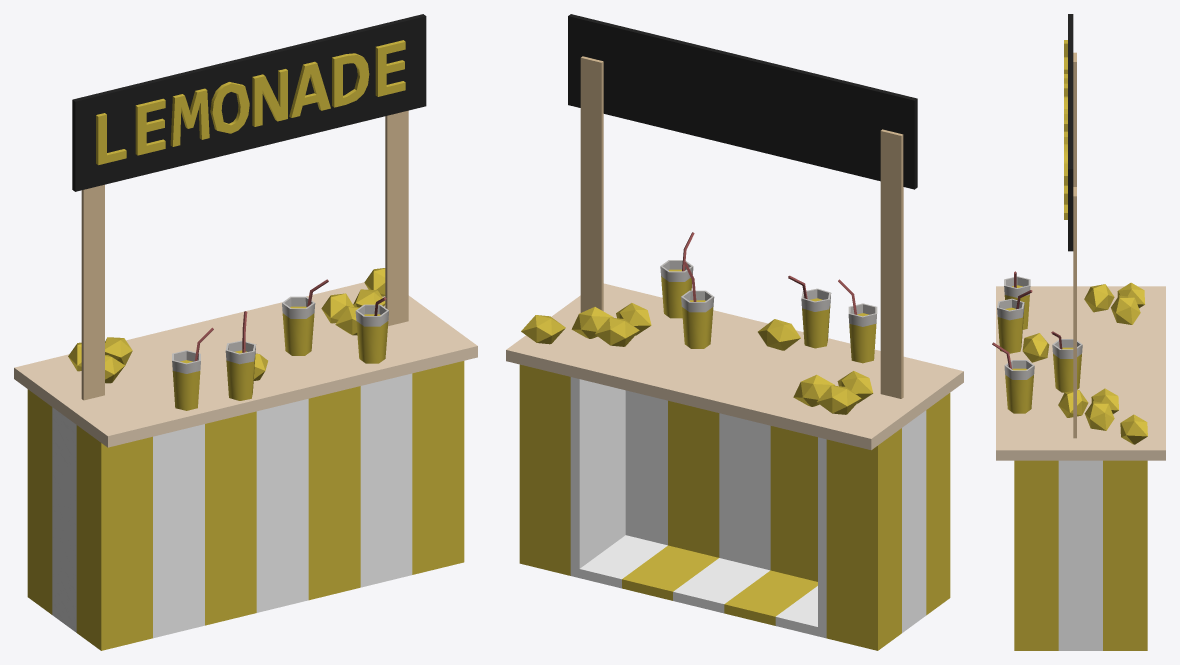
The model's file is SM_lemonade_shop.fbx.
The picture shows the model from 3 angles, left to right: view 1: azimuth 30°, elevation 25°; view 2: azimuth 150°, elevation 25°; view 3: azimuth 270°, elevation 25°; orthographic projection. The views are drawn at different scales.
Parts seen in each view (by area): view 1: Object177; view 2: Object177; view 3: Object177.
Part boxes in pixels (<box>): Object177: <box>14,14,477,650</box>; Object177: <box>506,14,963,650</box>; Object177: <box>992,14,1165,650</box>.
Size of the model in its own units: 65.07 by 88.49 by 29.19.
